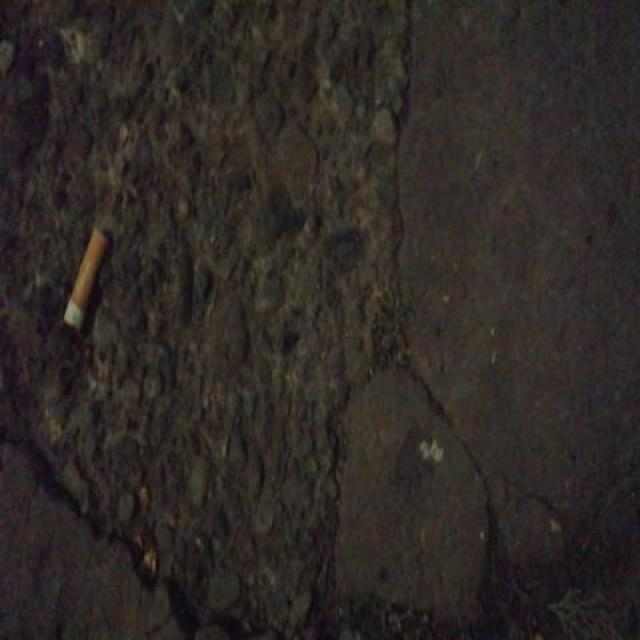non-organic waste: (61, 223, 112, 336)
